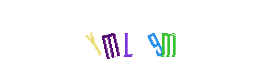9: (111, 0, 191, 80)
L: (92, 0, 172, 80)
M: (74, 0, 154, 80), (128, 0, 208, 80)
Y: (55, 0, 135, 80)
